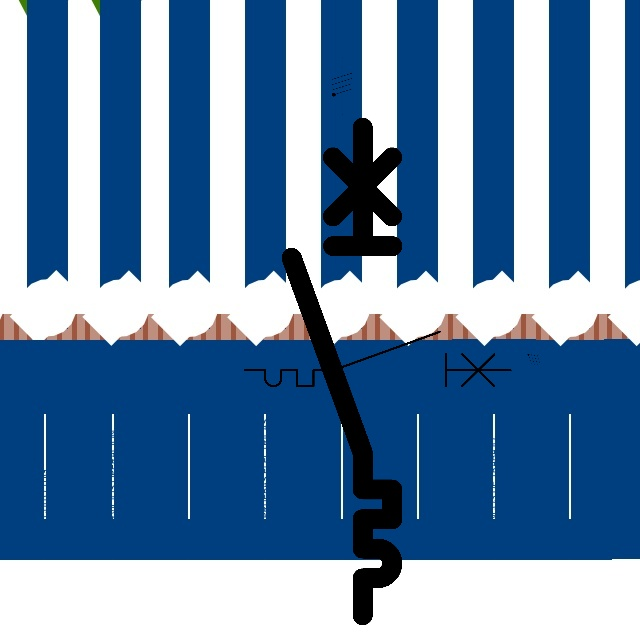interruptor_termomagnetico: (279, 115, 405, 628), (238, 325, 517, 393)
